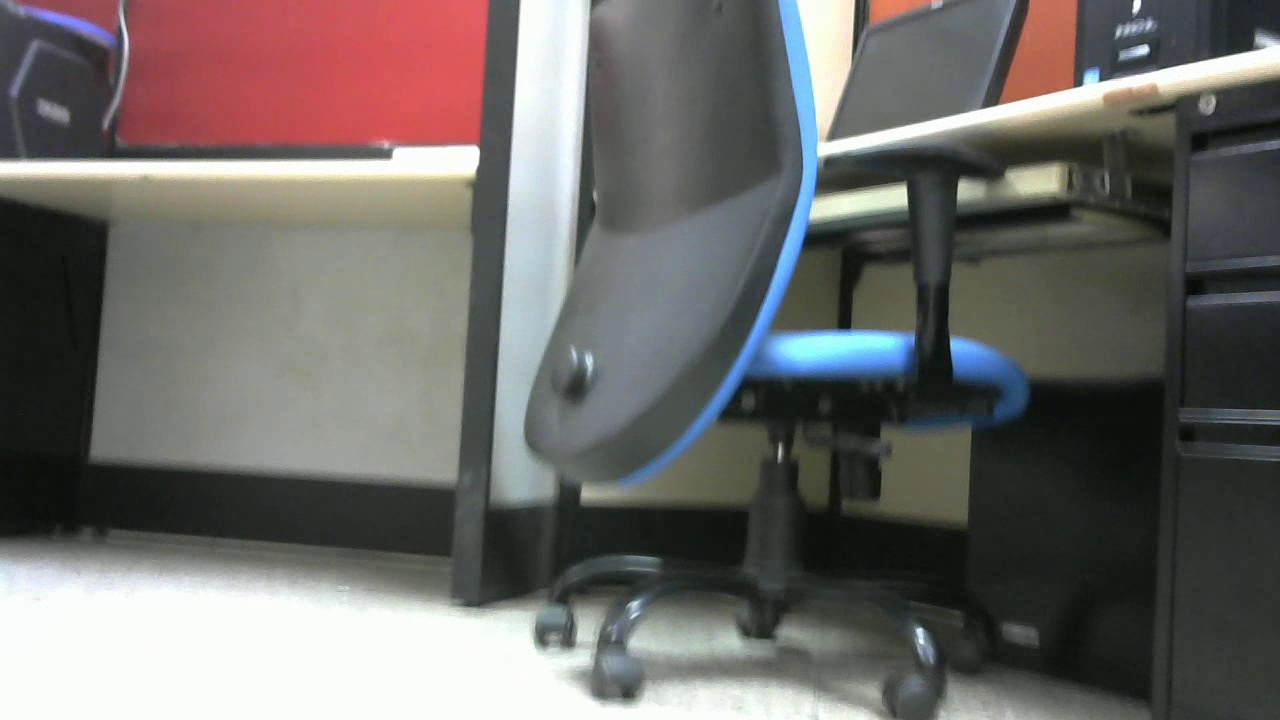chair: (524, 1, 1036, 714)
